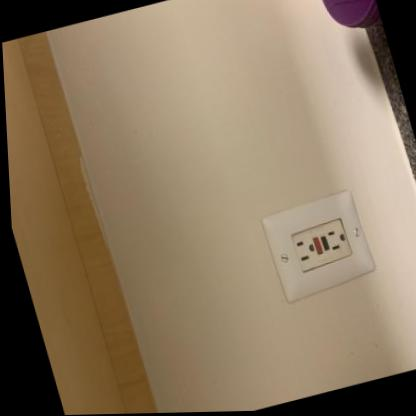OUTLET: (258, 186, 378, 304)
